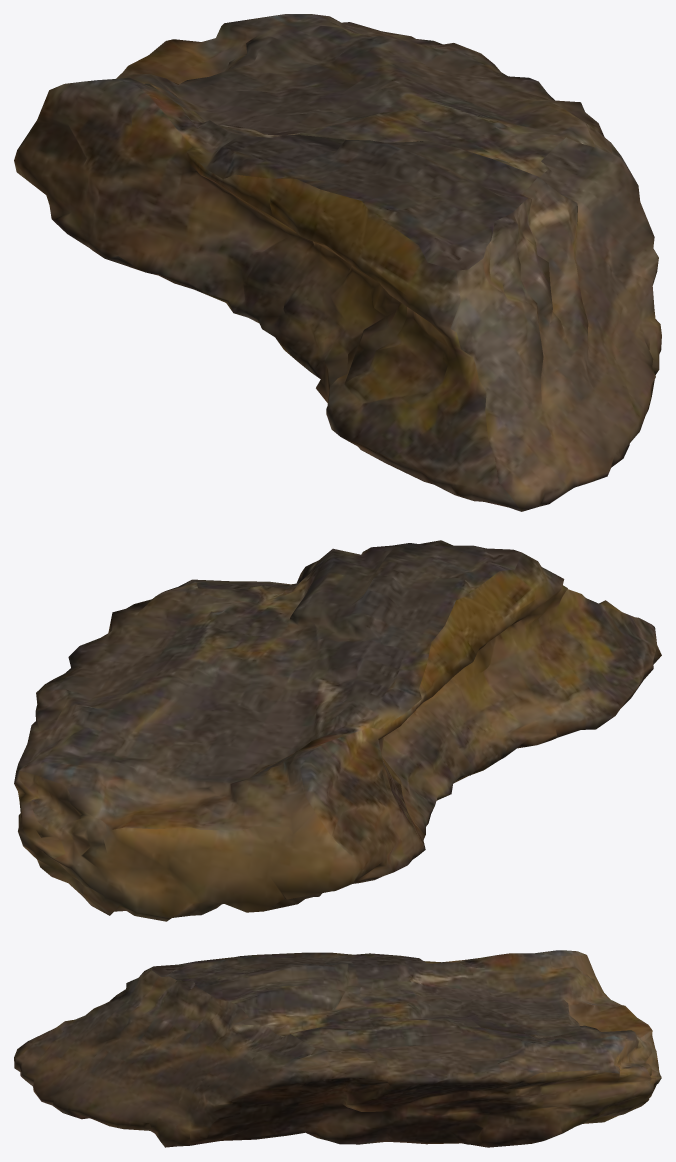
The model's file is fels.glb.
3 renders of one model, top to bottom at view 1: azimuth 30°, elevation 25°; view 2: azimuth 150°, elevation 25°; view 3: azimuth 270°, elevation 25°, orthographic. The views are drawn at different scales.
Parts seen in each view (by area): view 1: rock_09_LOD2; view 2: rock_09_LOD2; view 3: rock_09_LOD2.
Part boxes in pixels (x1,y1,x2,y2): rock_09_LOD2: [14, 14, 661, 511]; rock_09_LOD2: [14, 540, 661, 921]; rock_09_LOD2: [14, 950, 661, 1147].
Bounding box in the file's own units: 0.074 × 0.0329 × 0.1448.
Materials: 1 (1 with a texture image).
